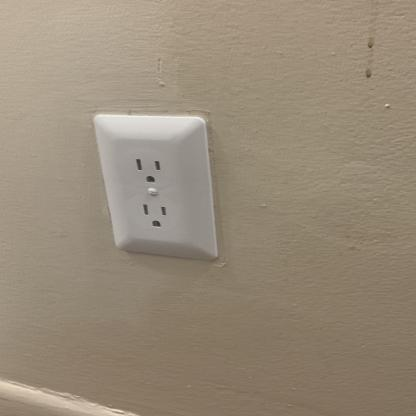OUTLET: (90, 112, 224, 264)
